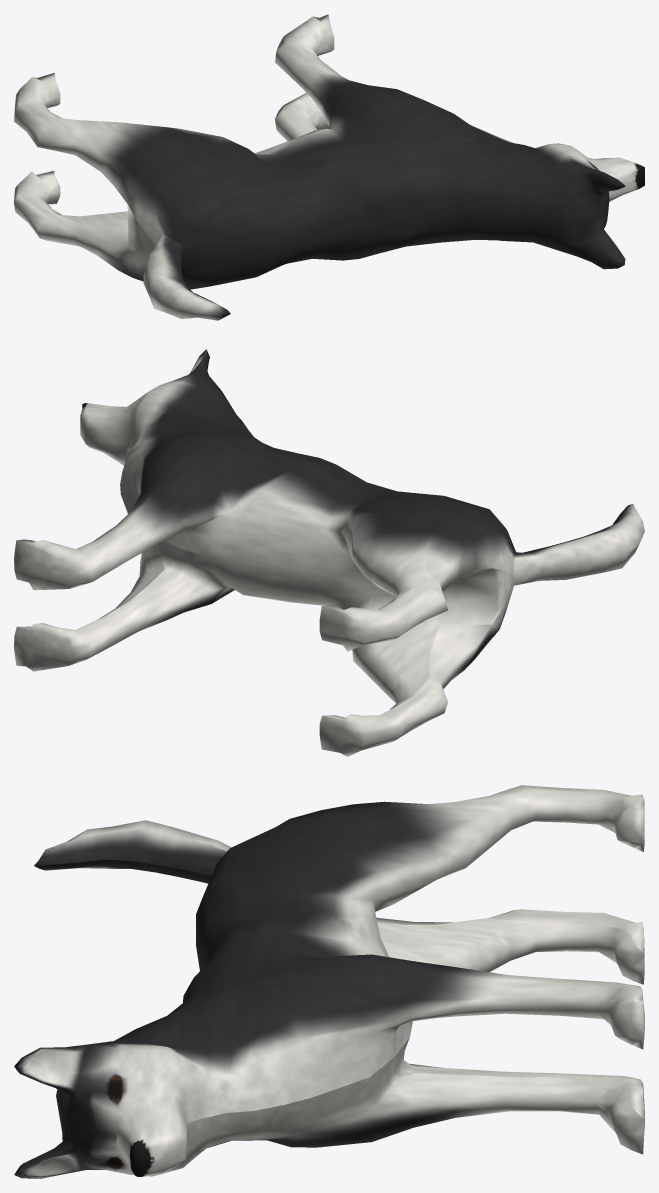
File: dog_husky.obj
The picture shows the model from 3 angles, top to bottom: view 1: azimuth 30°, elevation 25°; view 2: azimuth 150°, elevation 25°; view 3: azimuth 270°, elevation 25°; orthographic projection. The views are drawn at different scales.
Parts seen in each view (by area): view 1: dog_husky; view 2: dog_husky; view 3: dog_husky.
Part boxes in pixels (left/top/right/bottom): dog_husky: left=14, top=14, right=644, bottom=320; dog_husky: left=14, top=349, right=644, bottom=756; dog_husky: left=14, top=785, right=644, bottom=1178.
Size of the model in its own units: 0.9451 by 0.2406 by 0.7755.
Materials: 1 (1 with a texture image).
